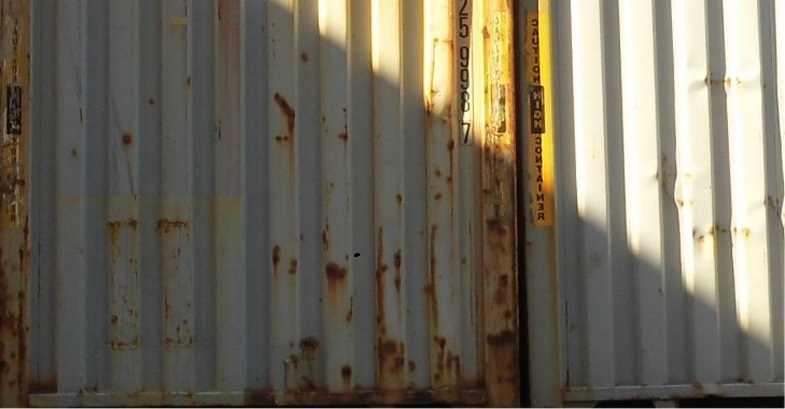container_no_door: (22, 1, 510, 399), (520, 1, 785, 406)
